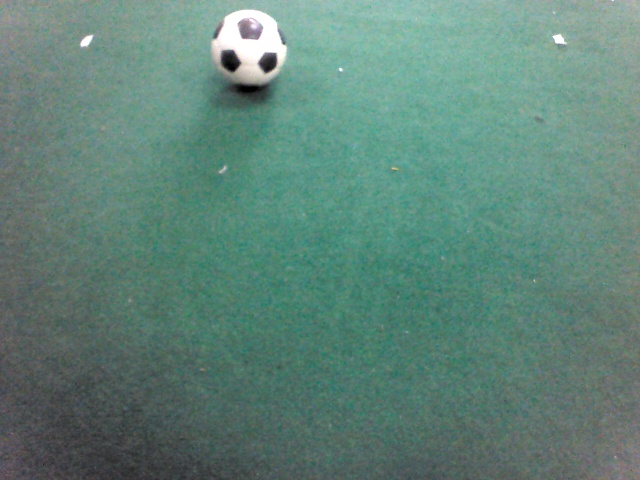ball: (208, 9, 290, 90)
